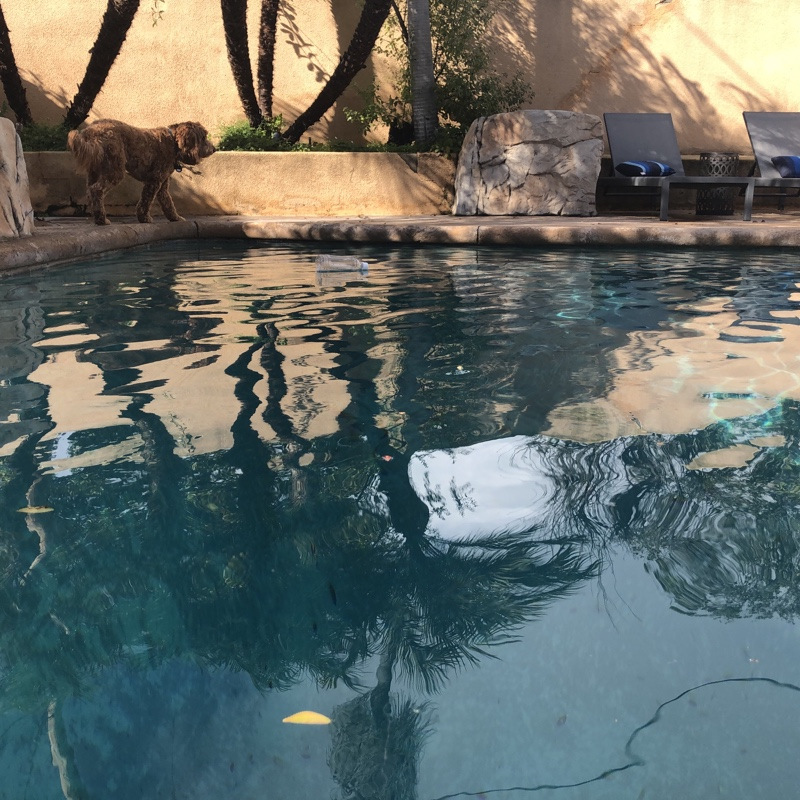Plastic Bottle: (313, 251, 371, 277)
